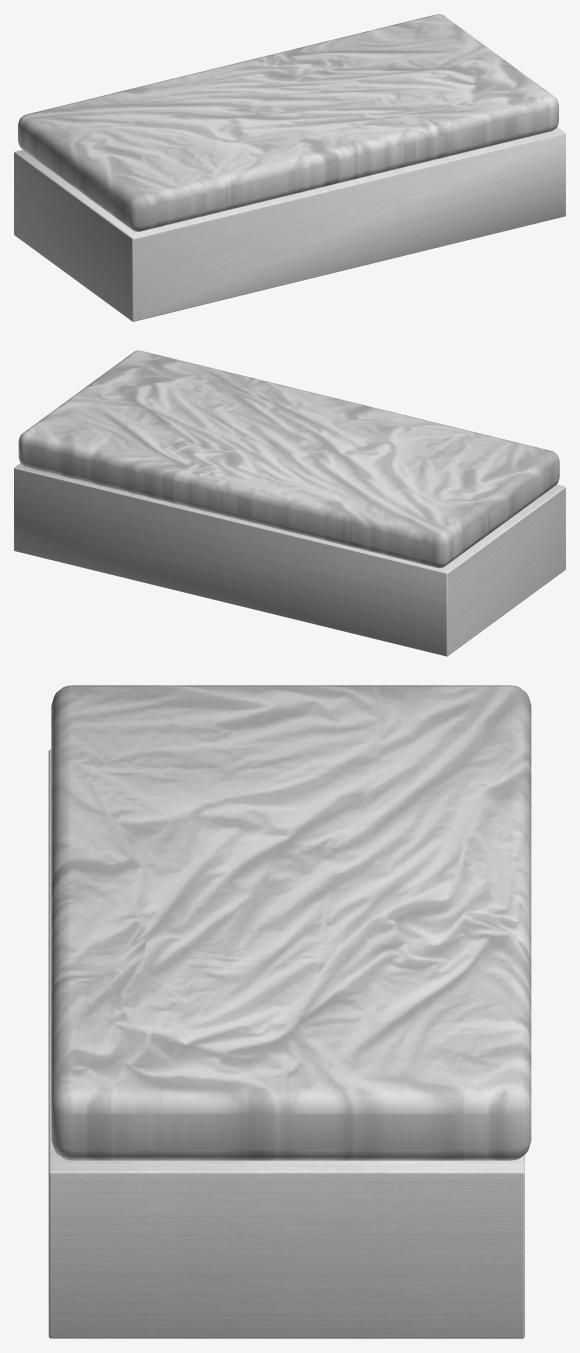
Rendered from Bed.FBX.
3 views of the same model, one above another, from view 1: azimuth 30°, elevation 25°; view 2: azimuth 150°, elevation 25°; view 3: azimuth 270°, elevation 25° (orthographic). The views are drawn at different scales.
Parts seen in each view (by area): view 1: Bed; view 2: Bed; view 3: Bed.
Boxes of the visible parts, x1,y1,x2,y2 form: Bed: (14, 14, 565, 321); Bed: (14, 350, 565, 656); Bed: (48, 685, 531, 1338).
Size of the model in its own units: 177 by 46.76 by 85.35.
Materials: 2 (2 with a texture image).
